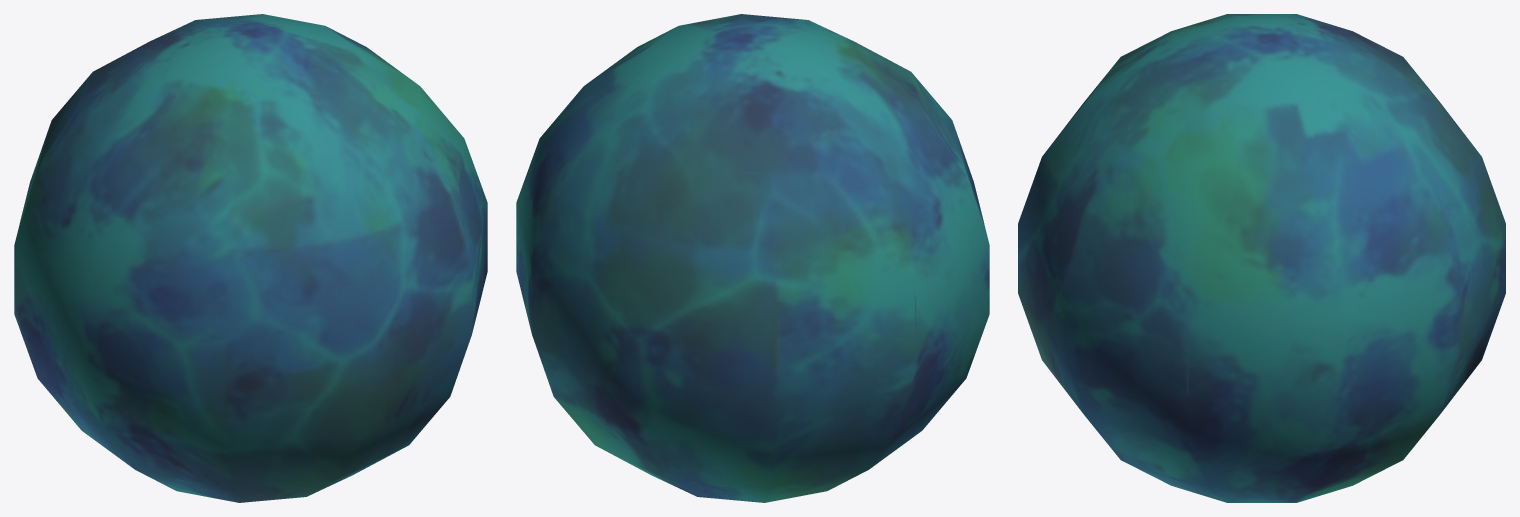
Rendered from celestialPrism_sphere.glb.
3 views of the same model, side by side, from view 1: azimuth 30°, elevation 25°; view 2: azimuth 150°, elevation 25°; view 3: azimuth 270°, elevation 25° (orthographic).
Parts seen in each view (by area): view 1: sphere; view 2: sphere; view 3: sphere.
Part boxes in pixels (left/top/right/bottom): sphere: left=14, top=14, right=487, bottom=502; sphere: left=516, top=14, right=989, bottom=502; sphere: left=1018, top=14, right=1505, bottom=502.
Size of the model in its own units: 0.1804 by 0.1921 by 0.1897.
1 material, 1 textured.
